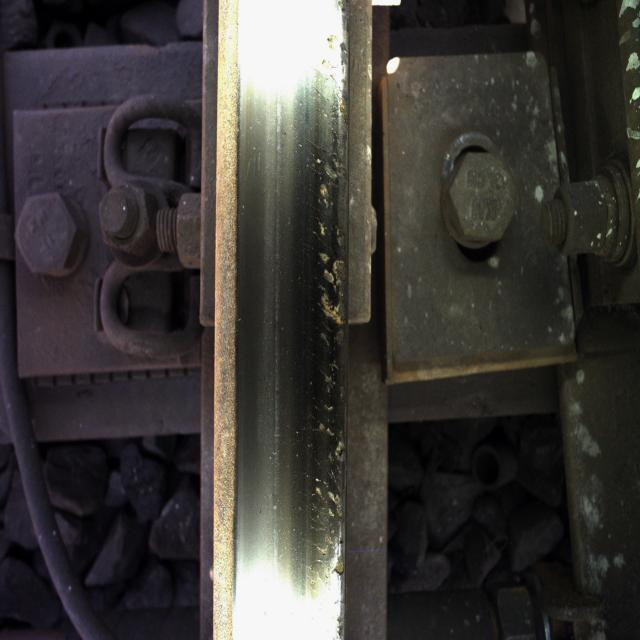crack: (290, 29, 346, 596)
